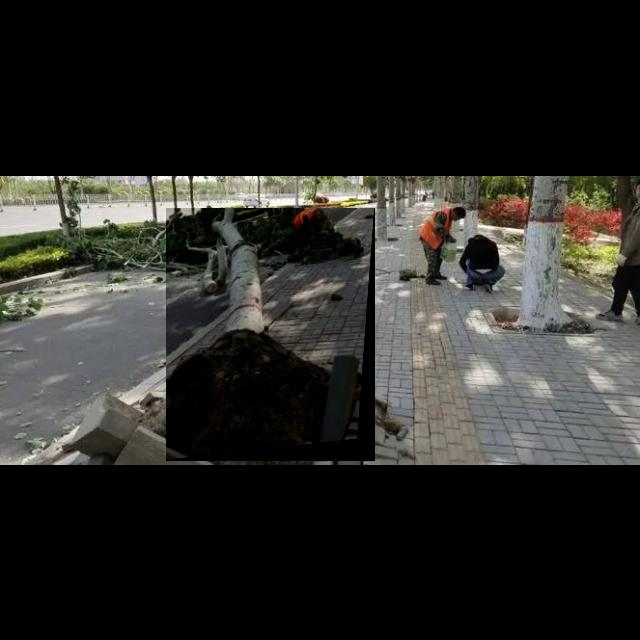Fallen Tree: (166, 208, 376, 462)
